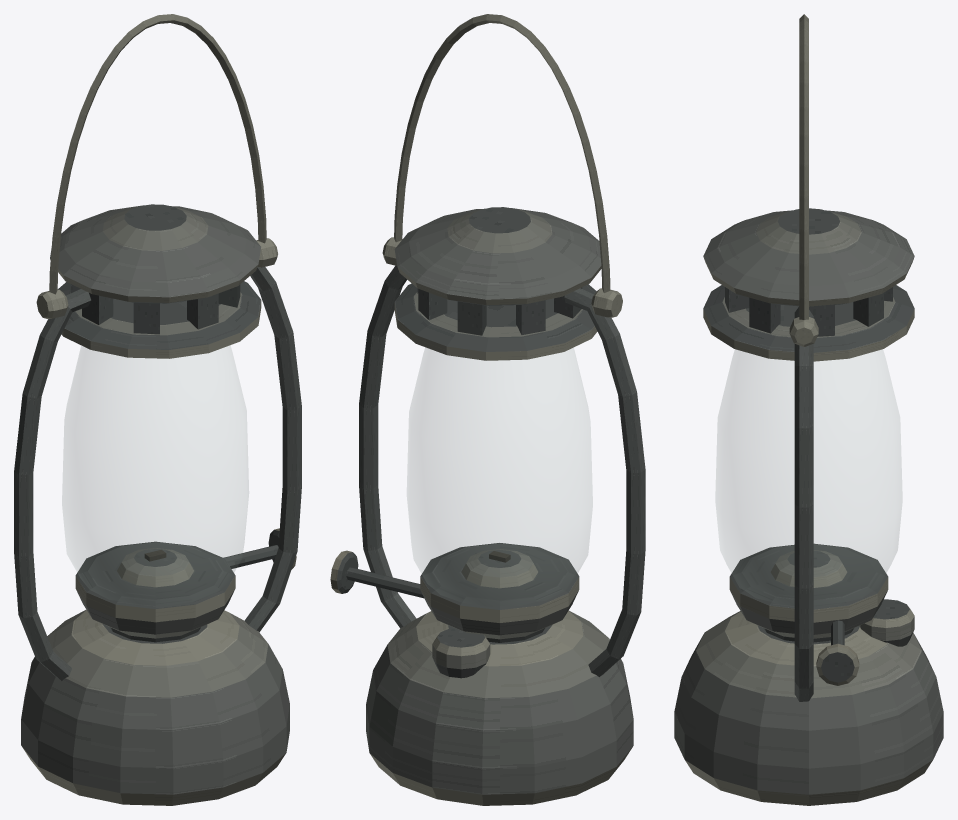
File: Oil_Lantern_001.glb
The picture shows the model from 3 angles, left to right: view 1: azimuth 30°, elevation 25°; view 2: azimuth 150°, elevation 25°; view 3: azimuth 270°, elevation 25°; orthographic projection.
Visible parts, largest first — view 1: Lantern_Globe, Lantern_Reservoir, Lantern_Chimney, Lantern_Frame, Lantern_Burner, Lantern_Handle, Lantern_WickKnob; view 2: Lantern_Globe, Lantern_Reservoir, Lantern_Chimney, Lantern_Frame, Lantern_Burner, Lantern_Handle, Lantern_WickKnob; view 3: Lantern_Reservoir, Lantern_Globe, Lantern_Chimney, Lantern_Burner, Lantern_Frame, Lantern_Handle, Lantern_WickKnob.
Part boxes in pixels (x1,y1,x2,y2): Lantern_Globe: [62, 346, 248, 605]; Lantern_Reservoir: [21, 609, 289, 805]; Lantern_Chimney: [50, 204, 261, 358]; Lantern_Frame: [14, 238, 301, 680]; Lantern_Burner: [75, 541, 235, 642]; Lantern_Handle: [49, 14, 266, 294]; Lantern_WickKnob: [223, 528, 296, 569]; Lantern_Globe: [407, 348, 592, 606]; Lantern_Reservoir: [366, 610, 633, 805]; Lantern_Chimney: [394, 207, 601, 360]; Lantern_Frame: [359, 237, 645, 676]; Lantern_Burner: [420, 543, 579, 642]; Lantern_Handle: [394, 14, 610, 292]; Lantern_WickKnob: [330, 550, 424, 598]; Lantern_Reservoir: [674, 599, 943, 805]; Lantern_Globe: [716, 350, 901, 605]; Lantern_Chimney: [703, 208, 914, 361]; Lantern_Burner: [729, 543, 888, 642]; Lantern_Frame: [789, 306, 818, 701]; Lantern_Handle: [799, 14, 808, 319]; Lantern_WickKnob: [816, 620, 859, 685].
Bounding box in the file's own units: 0.1375 × 0.34 × 0.112.
Materials: 2 (1 with a texture image).
